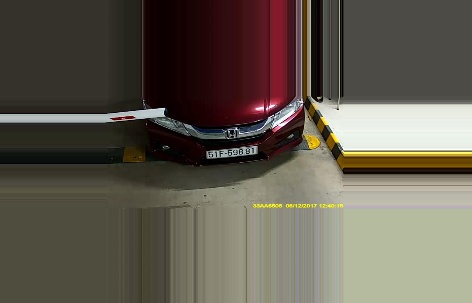plate: (203, 143, 259, 159)
